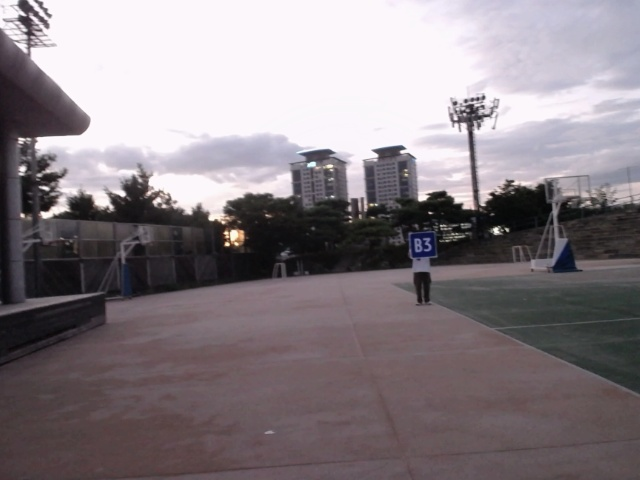delivery_b3: (409, 231, 438, 259)
